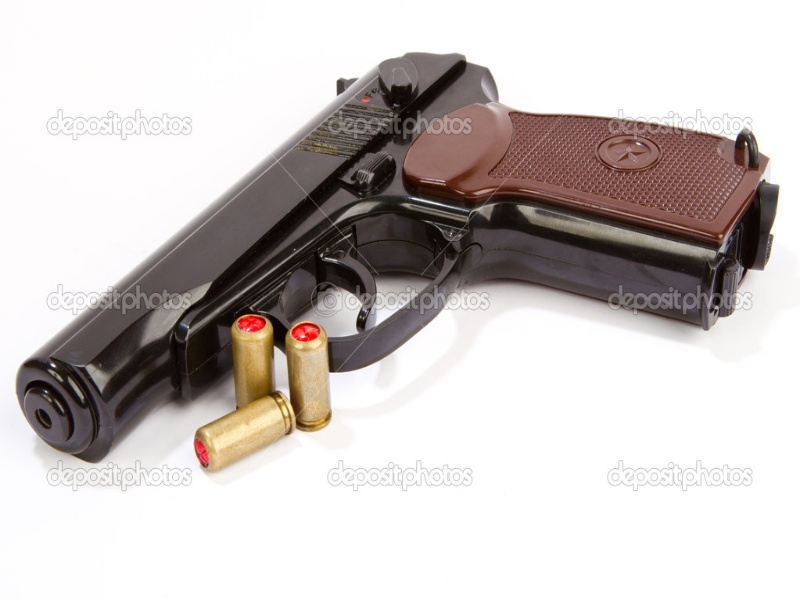gun: (11, 21, 783, 465)
